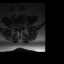CCS_stenosis: (18, 25, 19, 31)
LFS_severe_stenosis: (21, 23, 22, 28)
LLS_stenosis: (19, 25, 21, 29)
RFS_stenosis: (15, 24, 17, 29)
RLS_stenosis: (17, 25, 18, 30)
